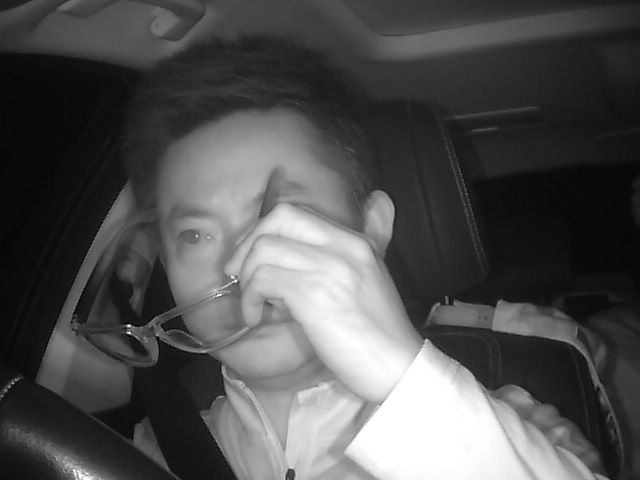hand: (230, 204, 410, 396)
